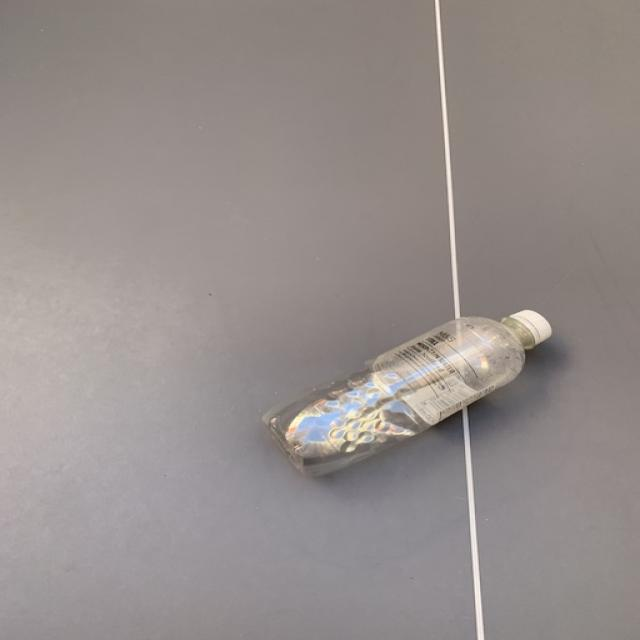Plastic: (263, 311, 553, 476)
